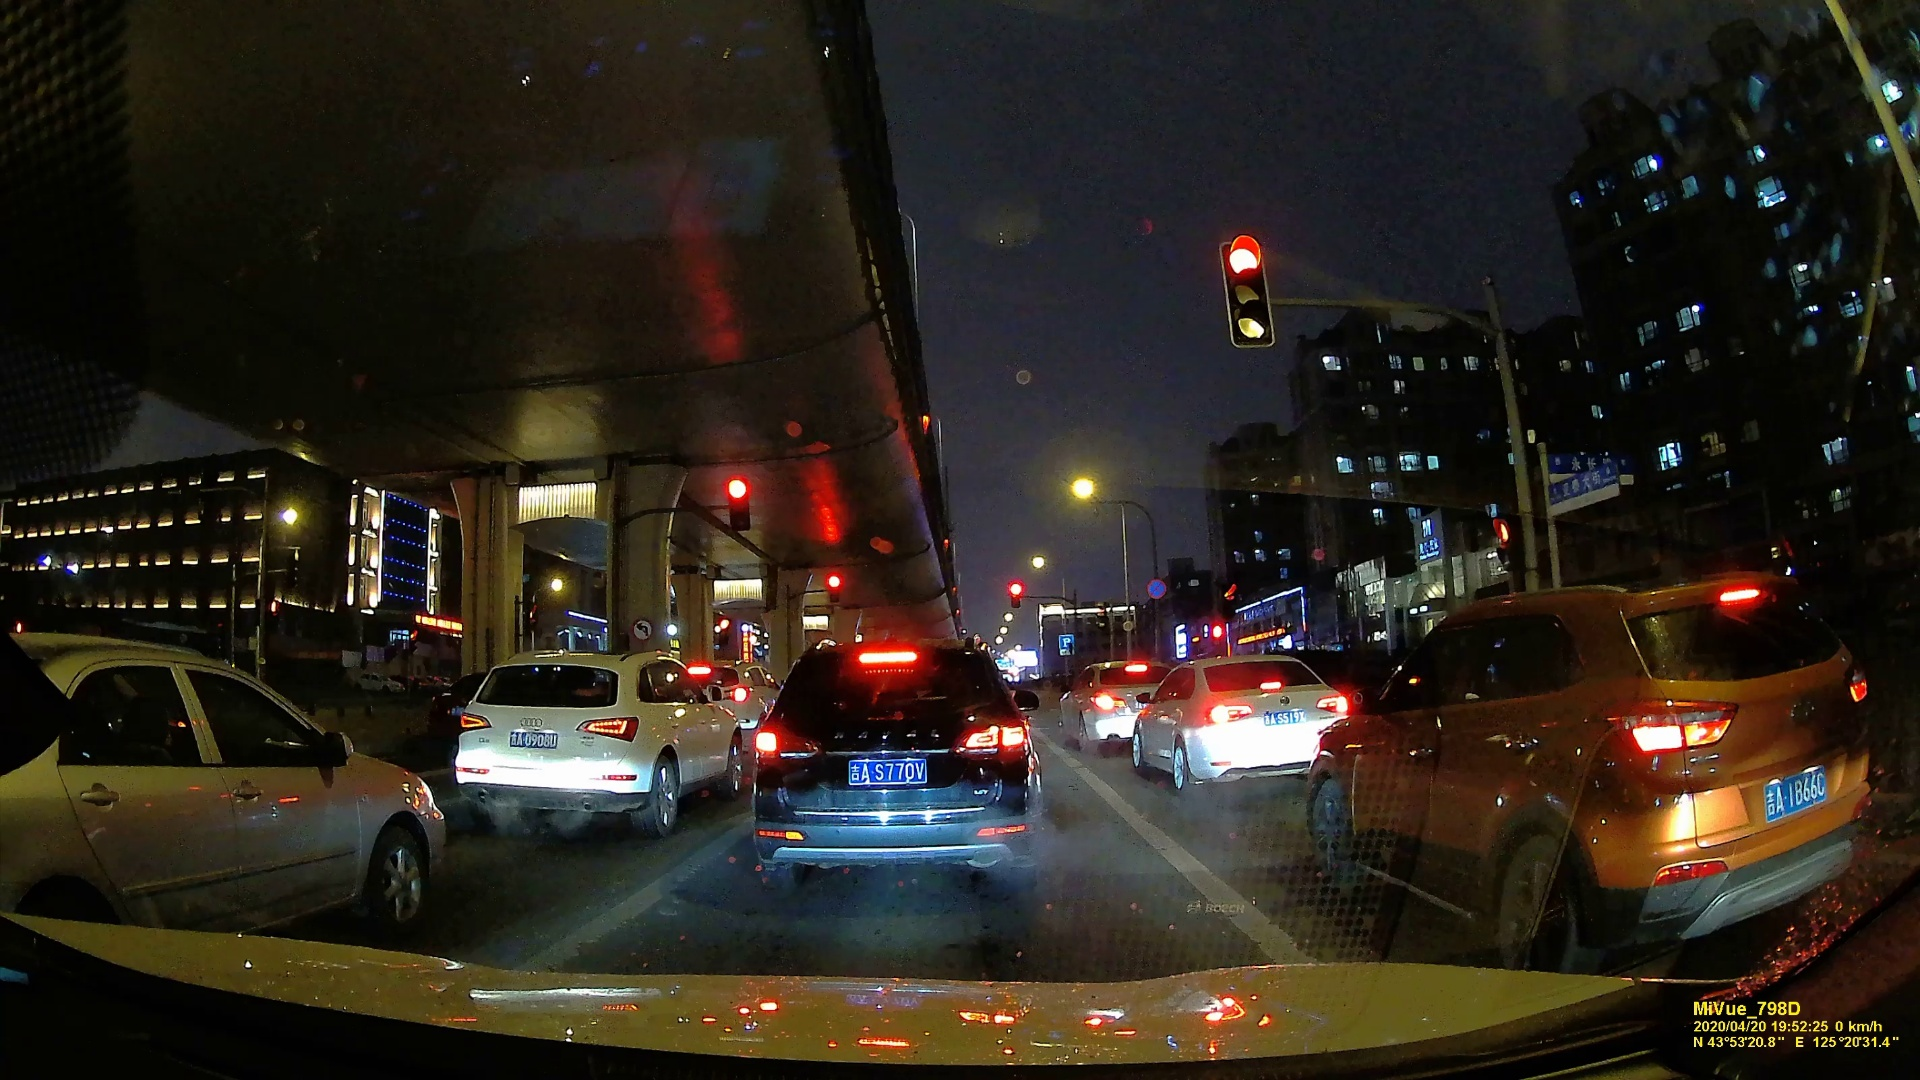traffic_sign: (1222, 233, 1278, 349), (1545, 465, 1622, 506), (1485, 508, 1523, 579), (723, 476, 749, 527), (632, 615, 654, 640), (825, 574, 843, 601), (1146, 578, 1167, 600), (1007, 582, 1023, 607), (1058, 636, 1076, 655)
vehicle: (1320, 585, 1873, 964), (1, 632, 440, 942), (746, 646, 1038, 895), (451, 649, 738, 832), (1130, 651, 1353, 793), (1056, 662, 1156, 753)
